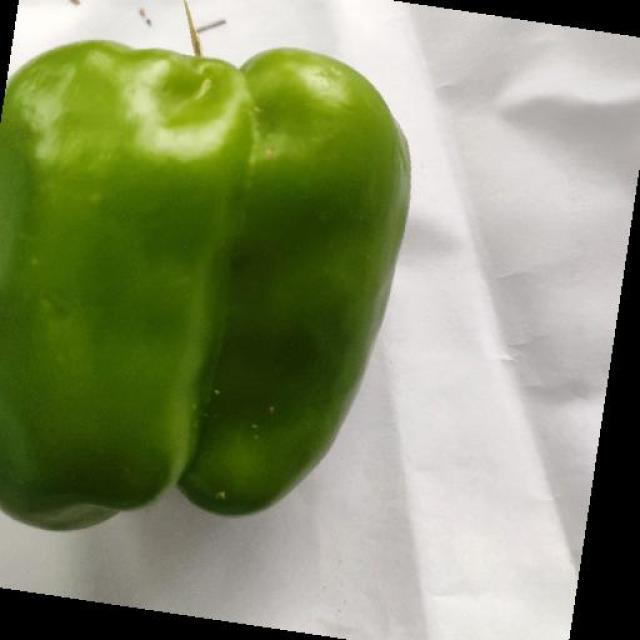Fresh_Capsicum: (17, 28, 398, 560)
